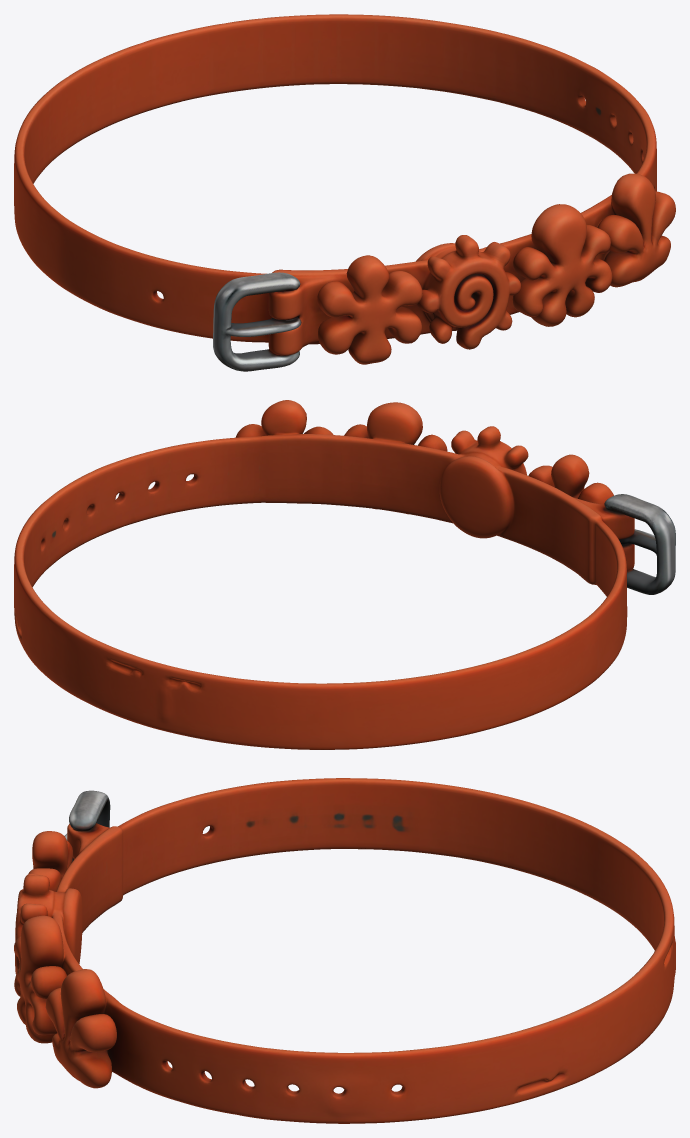
The model's file is weight_belt.glb.
3 views of the same model, one above another, from view 1: azimuth 30°, elevation 25°; view 2: azimuth 150°, elevation 25°; view 3: azimuth 270°, elevation 25° (orthographic). The views are drawn at different scales.
Parts seen in each view (by area): view 1: tripo_node_32540b27; view 2: tripo_node_32540b27; view 3: tripo_node_32540b27.
Part boxes in pixels (x1,y1,x2,y2): tripo_node_32540b27: (14, 14, 675, 371); tripo_node_32540b27: (14, 400, 675, 749); tripo_node_32540b27: (14, 778, 675, 1123).
Bounding box in the file's own units: 97.95 × 18.66 × 97.82.
1 material, 1 textured.
